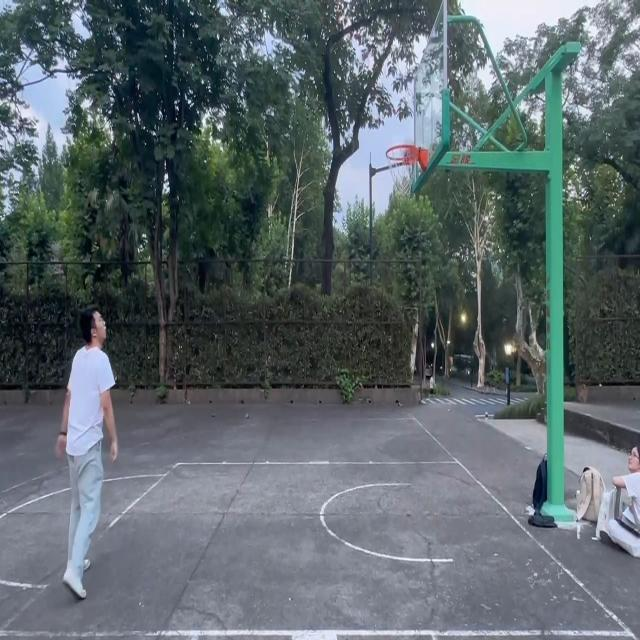basketball: (384, 145, 431, 200)
rim: (405, 146, 418, 168)
